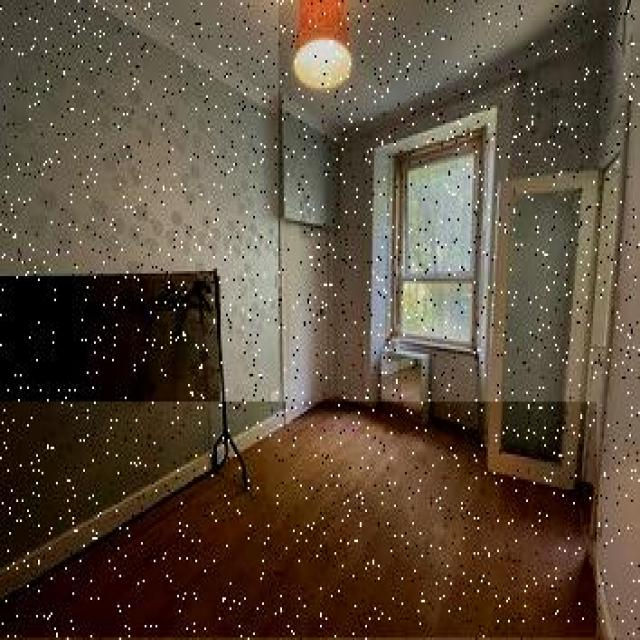Wall: (280, 0, 638, 637), (0, 402, 597, 637), (0, 0, 280, 432), (0, 277, 221, 597), (132, 0, 597, 131), (1, 452, 213, 597), (235, 411, 282, 447), (580, 484, 593, 530)
